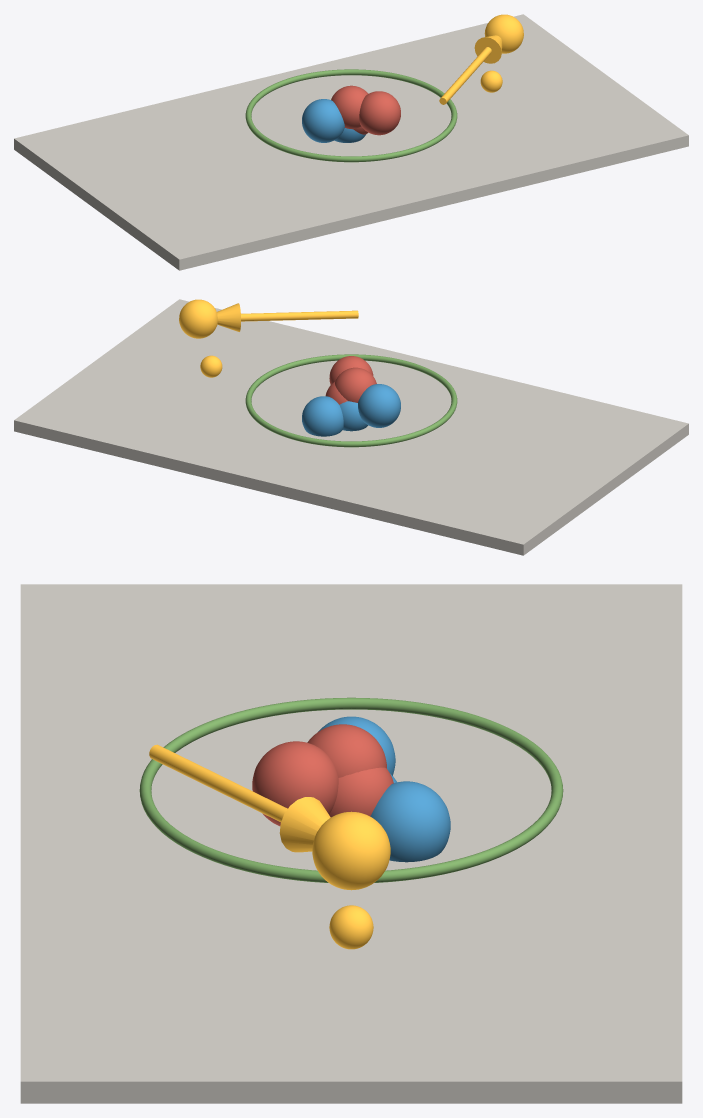
The model's file is chem-atoms-electron.glb.
3 renders of one model, top to bottom at view 1: azimuth 30°, elevation 25°; view 2: azimuth 150°, elevation 25°; view 3: azimuth 270°, elevation 25°, orthographic. The views are drawn at different scales.
Visible parts, largest first — view 1: concept-base, electron-shell-1, proton-2, neutron-1, highlighted-electron, proton-3, electron-motion-path-shaft, electron-motion-path-head, electron-1; view 2: concept-base, electron-shell-1, neutron-1, neutron-3, highlighted-electron, electron-motion-path-shaft, proton-3, neutron-2, proton-2, electron-motion-path-head, electron-1; view 3: concept-base, electron-shell-1, highlighted-electron, neutron-3, proton-2, proton-3, electron-motion-path-shaft, proton-1, electron-motion-path-head, electron-1, neutron-1.
Part boxes in pixels (x1,y1,x2,y2): concept-base: [14, 14, 688, 270]; electron-shell-1: [245, 69, 457, 162]; proton-2: [359, 91, 400, 135]; neutron-1: [302, 99, 344, 142]; highlighted-electron: [484, 14, 523, 53]; proton-3: [331, 85, 368, 129]; electron-motion-path-shaft: [439, 47, 491, 104]; electron-motion-path-head: [474, 35, 502, 63]; electron-1: [480, 70, 502, 92]; concept-base: [14, 299, 688, 555]; electron-shell-1: [245, 354, 457, 447]; neutron-1: [358, 384, 400, 427]; neutron-3: [302, 396, 343, 436]; highlighted-electron: [179, 299, 217, 338]; electron-motion-path-shaft: [241, 310, 358, 321]; proton-3: [335, 367, 376, 402]; neutron-2: [339, 401, 368, 431]; proton-2: [329, 356, 373, 384]; electron-motion-path-head: [217, 303, 240, 331]; electron-1: [200, 355, 222, 377]; concept-base: [20, 584, 682, 1103]; electron-shell-1: [139, 697, 563, 882]; highlighted-electron: [312, 811, 390, 890]; neutron-3: [370, 781, 450, 862]; proton-2: [252, 741, 338, 826]; proton-3: [307, 724, 386, 777]; electron-motion-path-shaft: [149, 744, 287, 822]; proton-1: [329, 767, 393, 817]; electron-motion-path-head: [279, 797, 330, 852]; electron-1: [329, 905, 373, 949]; neutron-1: [318, 716, 395, 775].
Size of what is drawn, in the model's own units: 2.4 by 0.425 by 1.35.
